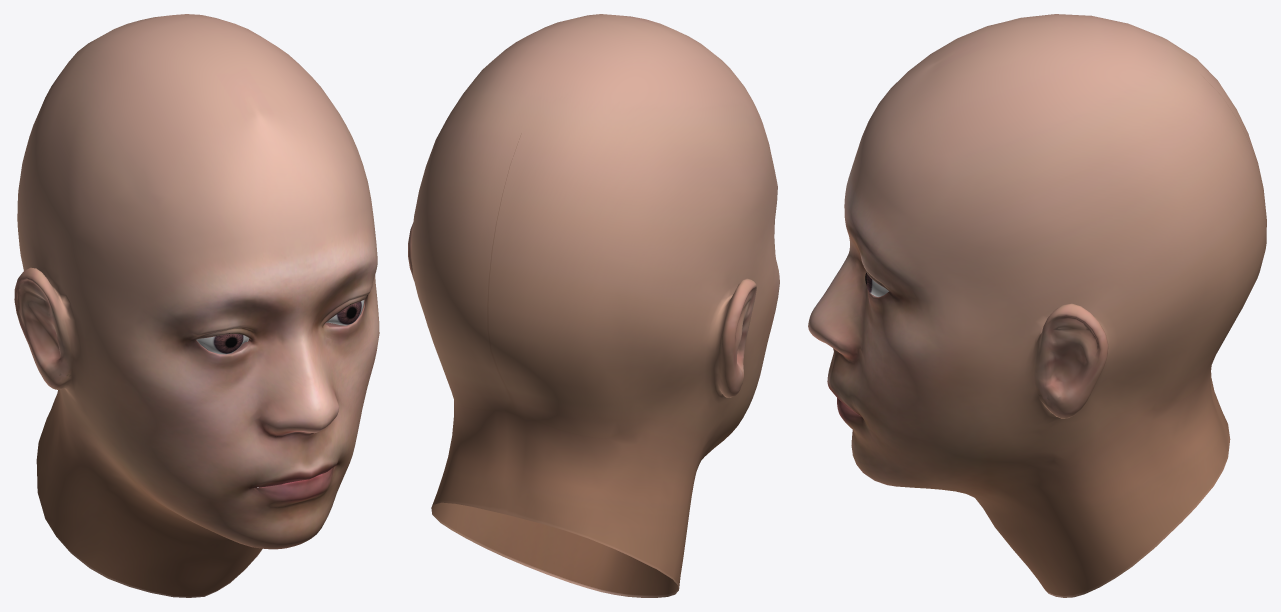
The picture shows the model from 3 angles, left to right: view 1: azimuth 30°, elevation 25°; view 2: azimuth 150°, elevation 25°; view 3: azimuth 270°, elevation 25°; orthographic projection.
Parts seen in each view (by area): view 1: Mesh_0, Mesh_1; view 2: Mesh_0; view 3: Mesh_0.
Part boxes in pixels (x1,y1,x2,y2): Mesh_0: [14, 14, 379, 597]; Mesh_1: [196, 300, 364, 354]; Mesh_0: [408, 14, 779, 597]; Mesh_0: [808, 14, 1266, 597].
Size of the model in its own units: 365 by 595 by 445.
Materials: 3 (2 with a texture image).
